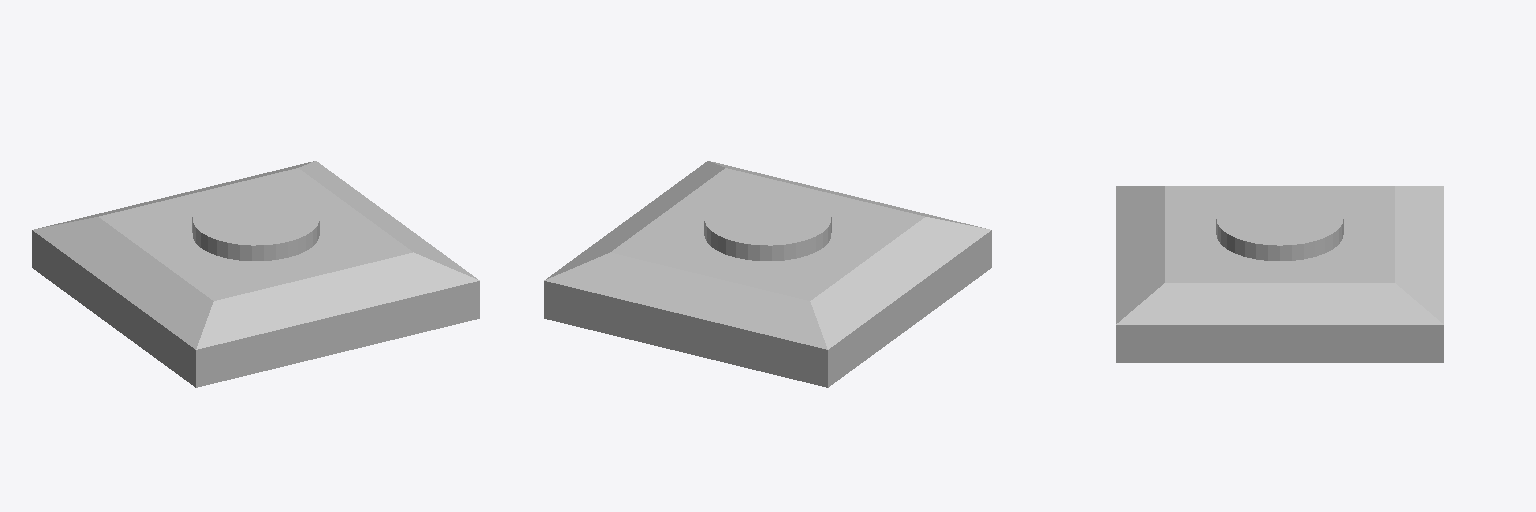
File: machinearm_obj.obj
The picture shows the model from 3 angles: view 1: azimuth 30°, elevation 25°; view 2: azimuth 150°, elevation 25°; view 3: azimuth 270°, elevation 25°; orthographic projection.
Parts seen in each view (by area): view 1: Cube; view 2: Cube; view 3: Cube.
Boxes of the visible parts, box(x1,y1,x2,y2) form: Cube: box(32, 161, 479, 387); Cube: box(544, 161, 991, 387); Cube: box(1116, 186, 1443, 362).
Bounding box in the file's own units: 2 × 0.5018 × 2.